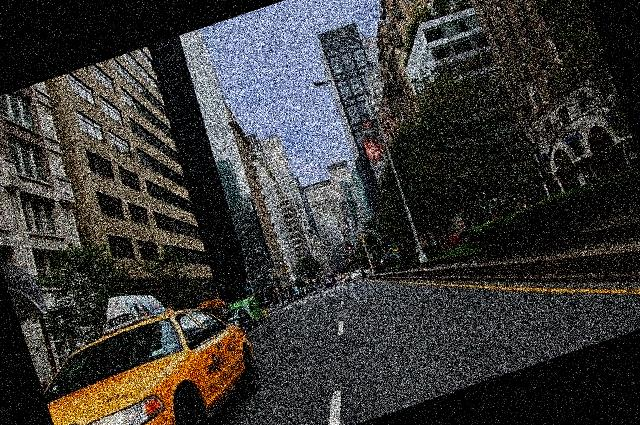taxi: (45, 308, 257, 425)
